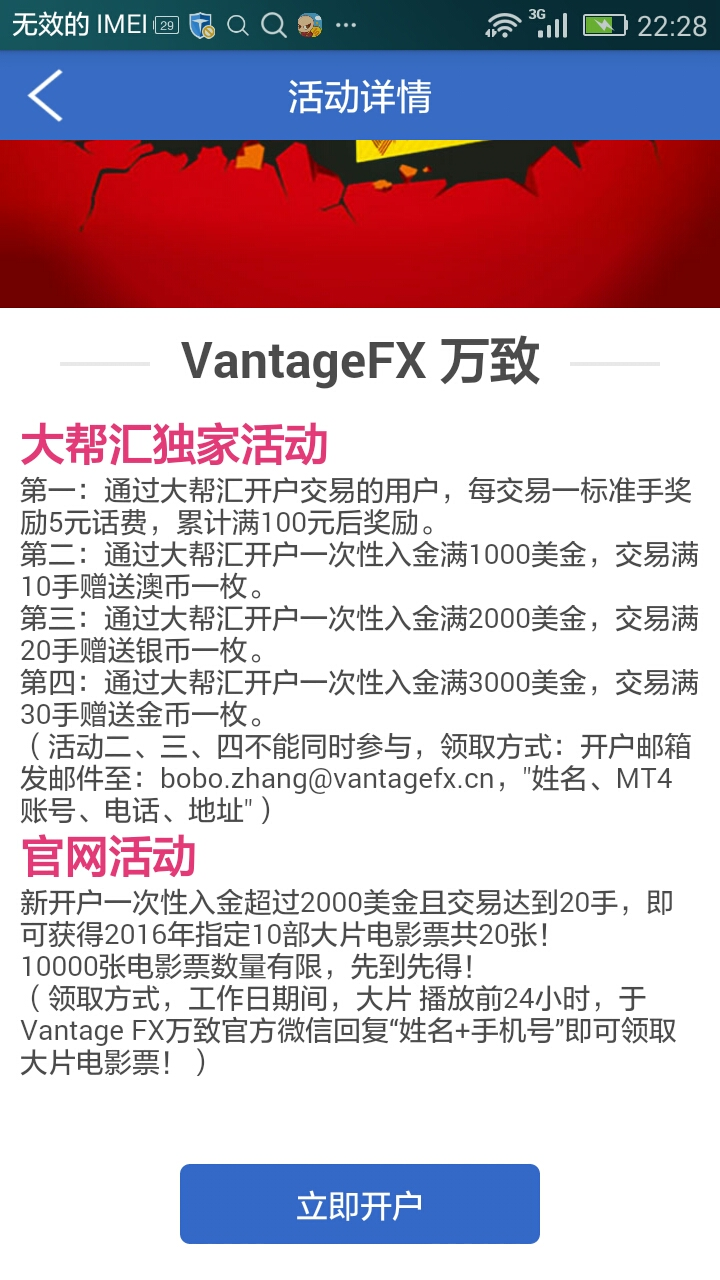button: (174, 1152, 548, 1250)
textview: (8, 402, 709, 1100)
